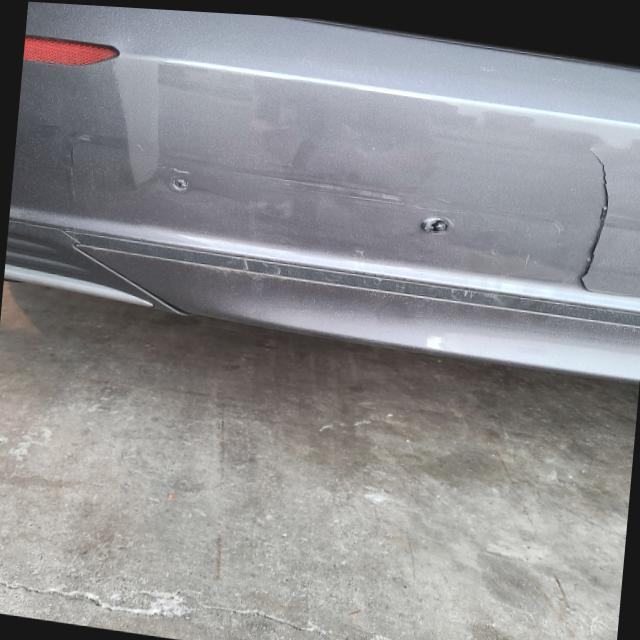Crack: (566, 144, 620, 294), (252, 179, 466, 216), (417, 214, 451, 237)
